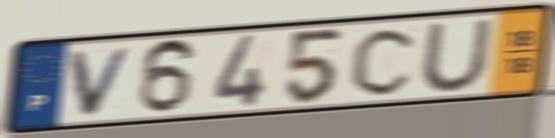4: (211, 32, 270, 111)
5: (281, 24, 347, 108)
6: (138, 35, 205, 120)
C: (347, 24, 422, 98)
U: (418, 16, 496, 95)
V: (67, 44, 139, 119)
